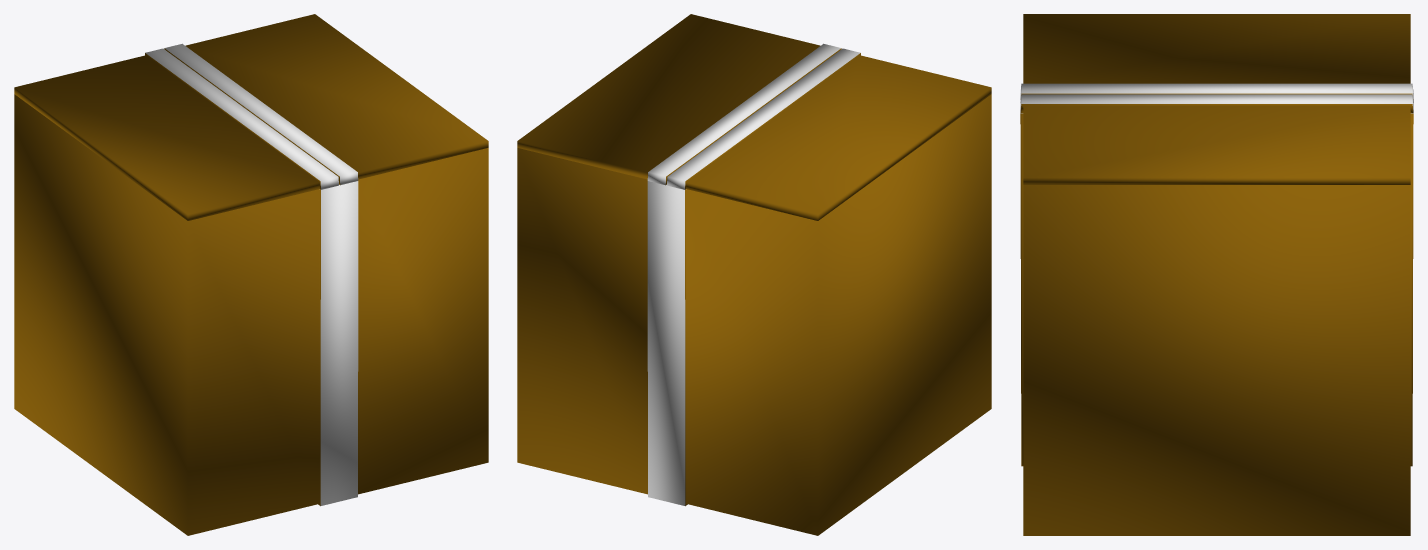
The picture shows the model from 3 angles, left to right: view 1: azimuth 30°, elevation 25°; view 2: azimuth 150°, elevation 25°; view 3: azimuth 270°, elevation 25°; orthographic projection. The views are drawn at different scales.
Visible parts, largest first — view 1: Box; view 2: Box; view 3: Box.
Part boxes in pixels (left/top/right/bottom): Box: left=14, top=14, right=488, bottom=535; Box: left=517, top=14, right=991, bottom=535; Box: left=1020, top=14, right=1413, bottom=535.
Size of the model in its own units: 86.76 by 89.58 by 88.09.
